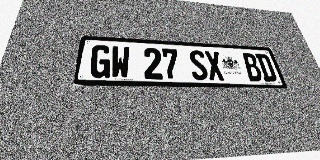2: (144, 47, 163, 79)
7: (161, 48, 181, 80)
B: (241, 53, 264, 81)
D: (255, 54, 278, 82)
G: (89, 45, 111, 78)
S: (188, 50, 209, 80)
W: (110, 46, 130, 79)
X: (204, 51, 225, 81)
